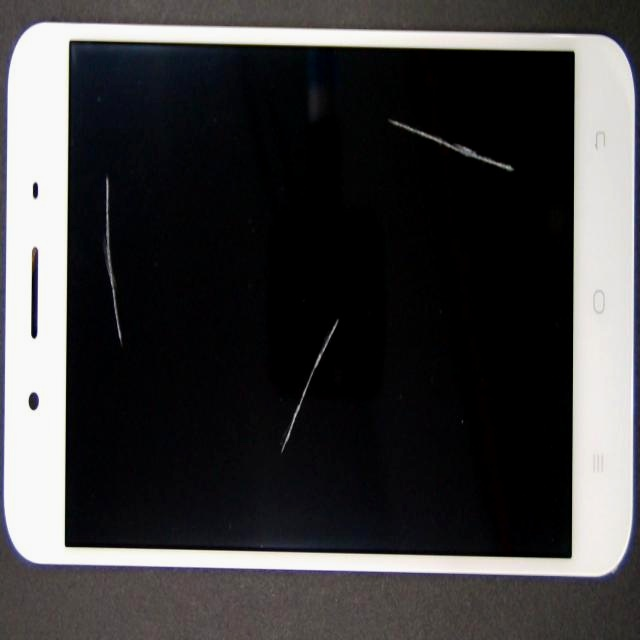scratch: (203, 63, 464, 529), (70, 196, 199, 559), (338, 107, 640, 209)
